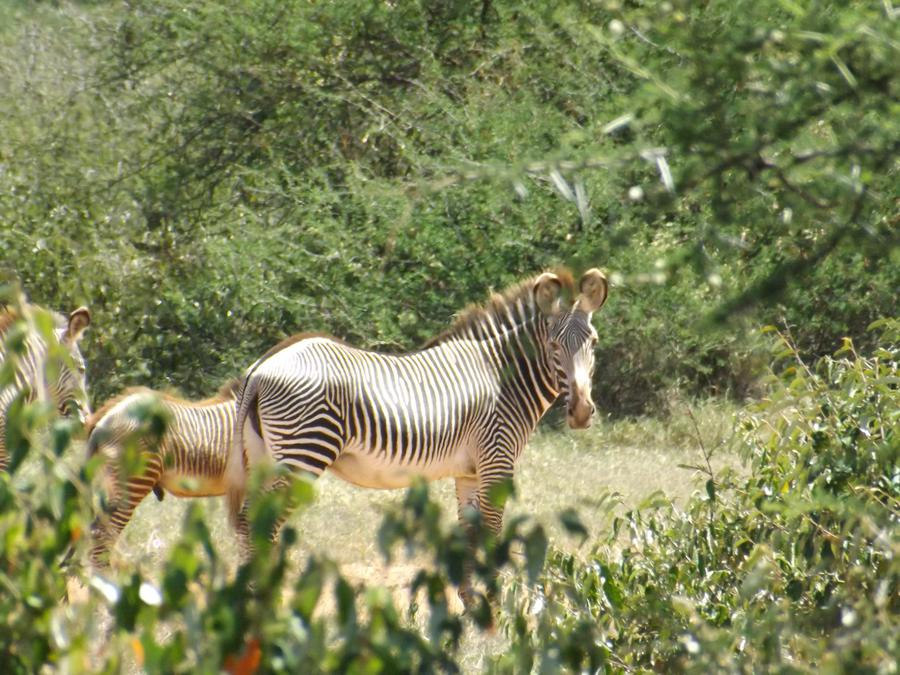zebra_grevys: (244, 317, 519, 472)
